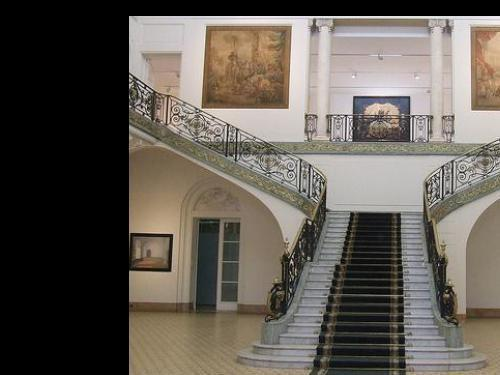Escaleras: (241, 202, 488, 371)
